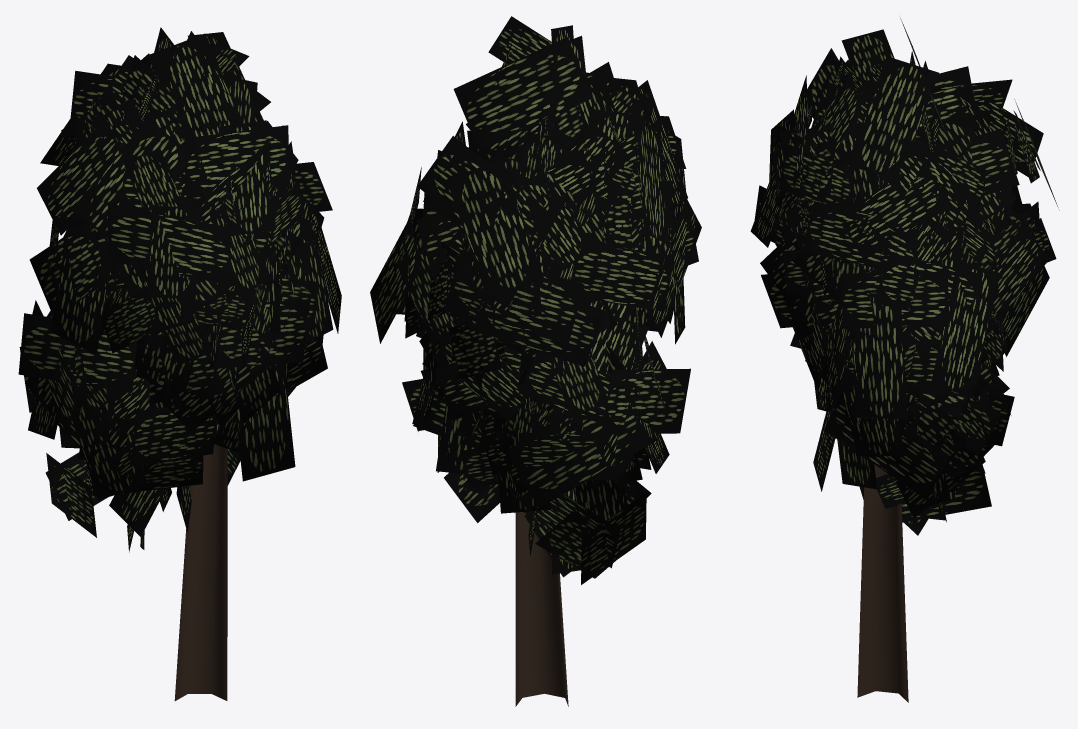
Rendered from caral_sauce_lod0.glb.
3 renders of one model, left to right at view 1: azimuth 30°, elevation 25°; view 2: azimuth 150°, elevation 25°; view 3: azimuth 270°, elevation 25°, orthographic.
Visible parts, largest first — view 1: GEO-Kit_sauce_LOD0; view 2: GEO-Kit_sauce_LOD0; view 3: GEO-Kit_sauce_LOD0.
Boxes of the visible parts, x1=… form: GEO-Kit_sauce_LOD0: x1=18, y1=27, x2=341, y2=700; GEO-Kit_sauce_LOD0: x1=370, y1=16, x2=701, y2=706; GEO-Kit_sauce_LOD0: x1=750, y1=18, x2=1059, y2=702.
Size of the model in its own units: 3.65 by 7.75 by 3.47.
2 materials, 1 textured.
